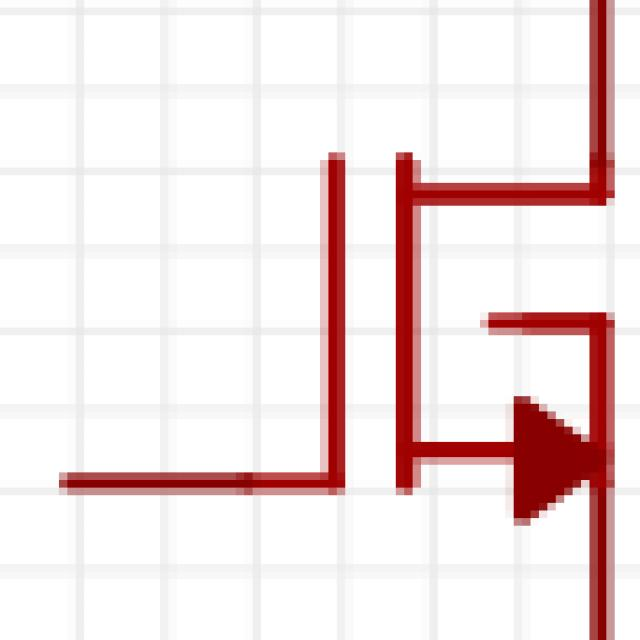nmos: (37, 10, 640, 630)
